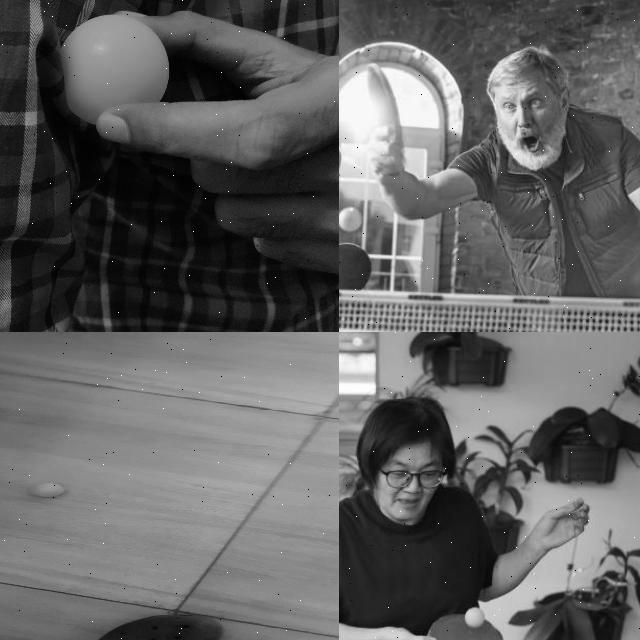ping-pong-ball: (62, 13, 168, 126), (339, 206, 362, 232), (31, 484, 63, 497), (466, 607, 484, 625)
